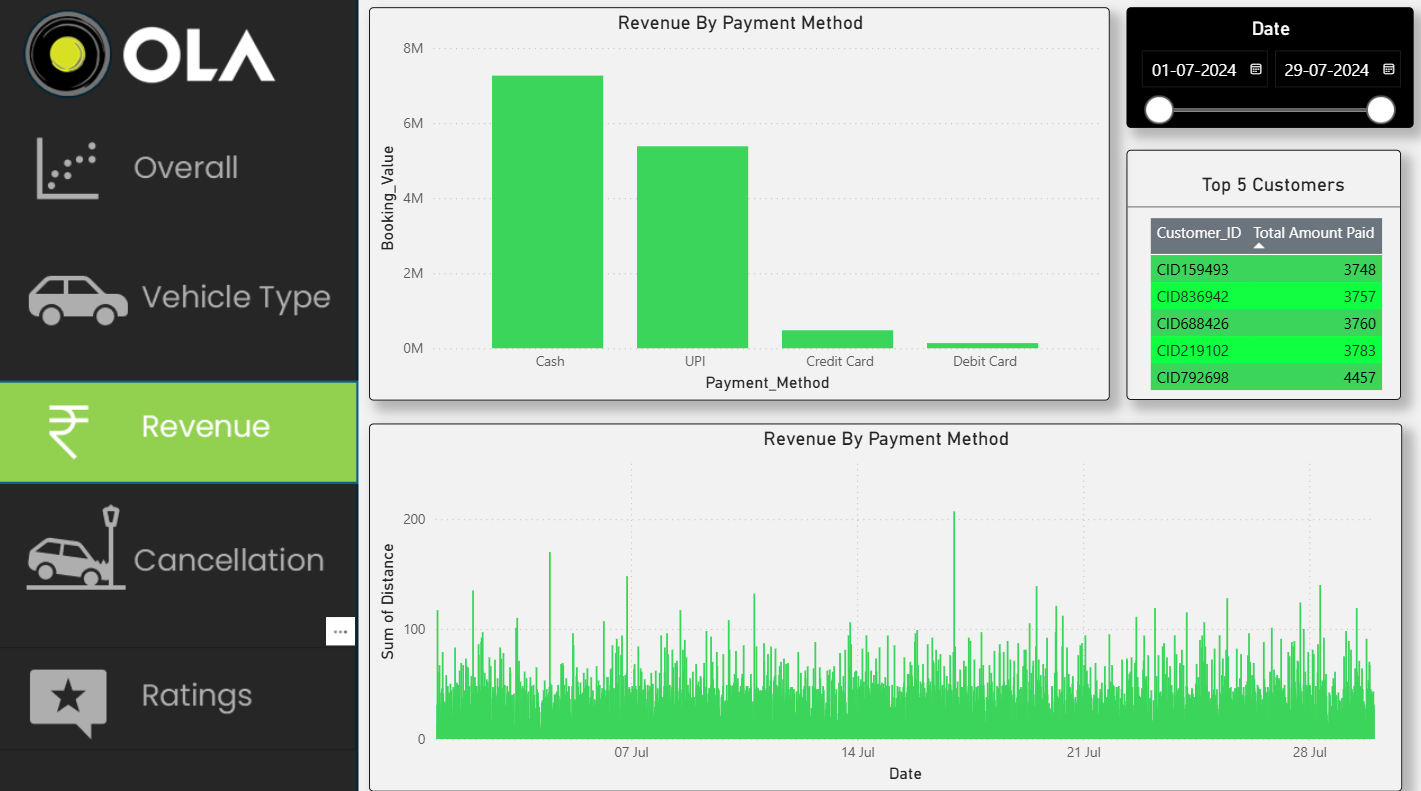

This screenshot's page, from the dashboard's own definition file:
{"tool":"powerbi","page":{"name":"Revenue","canvas":[1280,720],"ordinal":2},"visuals":[{"type":"actionButton","box":[0,111.7,322.7,90.8],"z":0},{"type":"actionButton","box":[0,223.3,322.7,90.8],"z":1000},{"type":"actionButton","box":[0,452.8,322.7,90.8],"z":2000},{"type":"actionButton","box":[0,579.1,322.7,90.8],"z":3000},{"type":"columnChart","title":"Revenue By Payment Method","fields":{"Y":["Sum(Bookings-40000-Rows.Booking_Value)"],"Category":["Bookings-40000-Rows.Payment_Method"]},"box":[333.4,9.6,658.7,349.9],"z":4000},{"type":"columnChart","title":"Revenue By Payment Method","fields":{"Y":["Sum(Bookings-40000-Rows.Ride_Distance)"],"Category":["Bookings-40000-Rows.Date"]},"box":[333.4,380.1,918,327],"z":5000},{"type":"slicer","title":"Date","fields":{"Values":["Bookings-40000-Rows.Date"]},"box":[1007.2,9.6,255.2,107],"z":6000},{"type":"tableEx","title":"Top 5 Customers","fields":{"Values":["Bookings-40000-Rows.Customer_ID","Sum(Bookings-40000-Rows.Booking_Value)"]},"box":[1007.2,137.2,244.3,222.3],"z":7000}]}

Visuals, with their boxes in screenshot pixels (x1, y1, x2, y2):
actionButton: locate(0, 118, 352, 220)
actionButton: locate(0, 244, 352, 346)
actionButton: locate(0, 502, 352, 604)
actionButton: locate(0, 644, 352, 746)
"Revenue By Payment Method" columnChart: locate(364, 3, 1105, 397)
"Revenue By Payment Method" columnChart: locate(364, 420, 1396, 788)
"Date" slicer: locate(1122, 3, 1409, 124)
"Top 5 Customers" tableEx: locate(1122, 147, 1396, 397)
